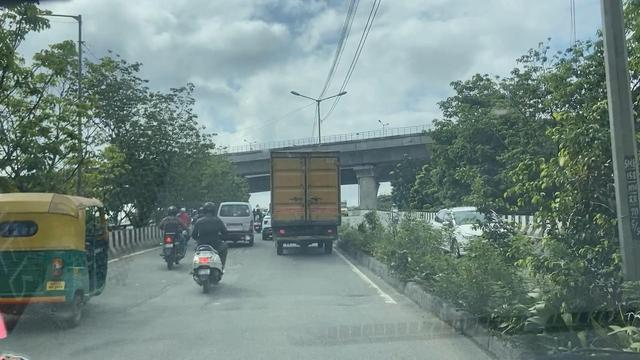HMV: (268, 148, 343, 258)
LMV: (0, 200, 111, 319), (192, 204, 226, 291), (156, 203, 187, 264)
